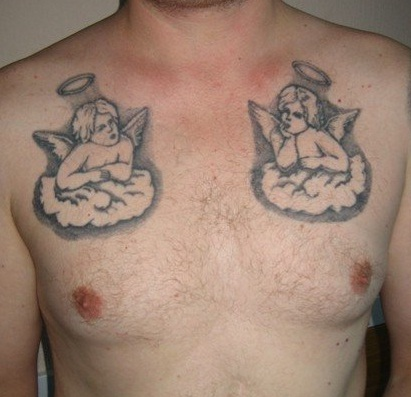tatu1_angel: (20, 67, 170, 242), (241, 47, 376, 222)
